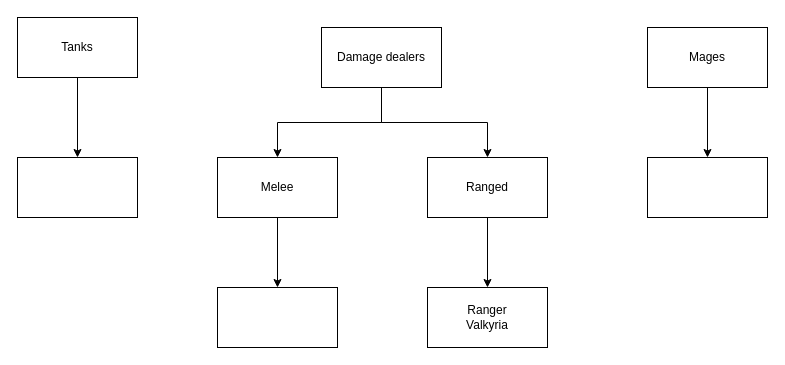
The diagram is 785 pixels wide and 365 high, and some of its shapes have lost their labels. The shapes that lost their labels are listed below. From the top down, each one's centre as x and y in pixels, then its label:
the point at 77,187: Paladin Dark knight Druid
the point at 707,187: Cleric Necromancer Elementalist
the point at 277,317: Vampire Assassin Valkyria
